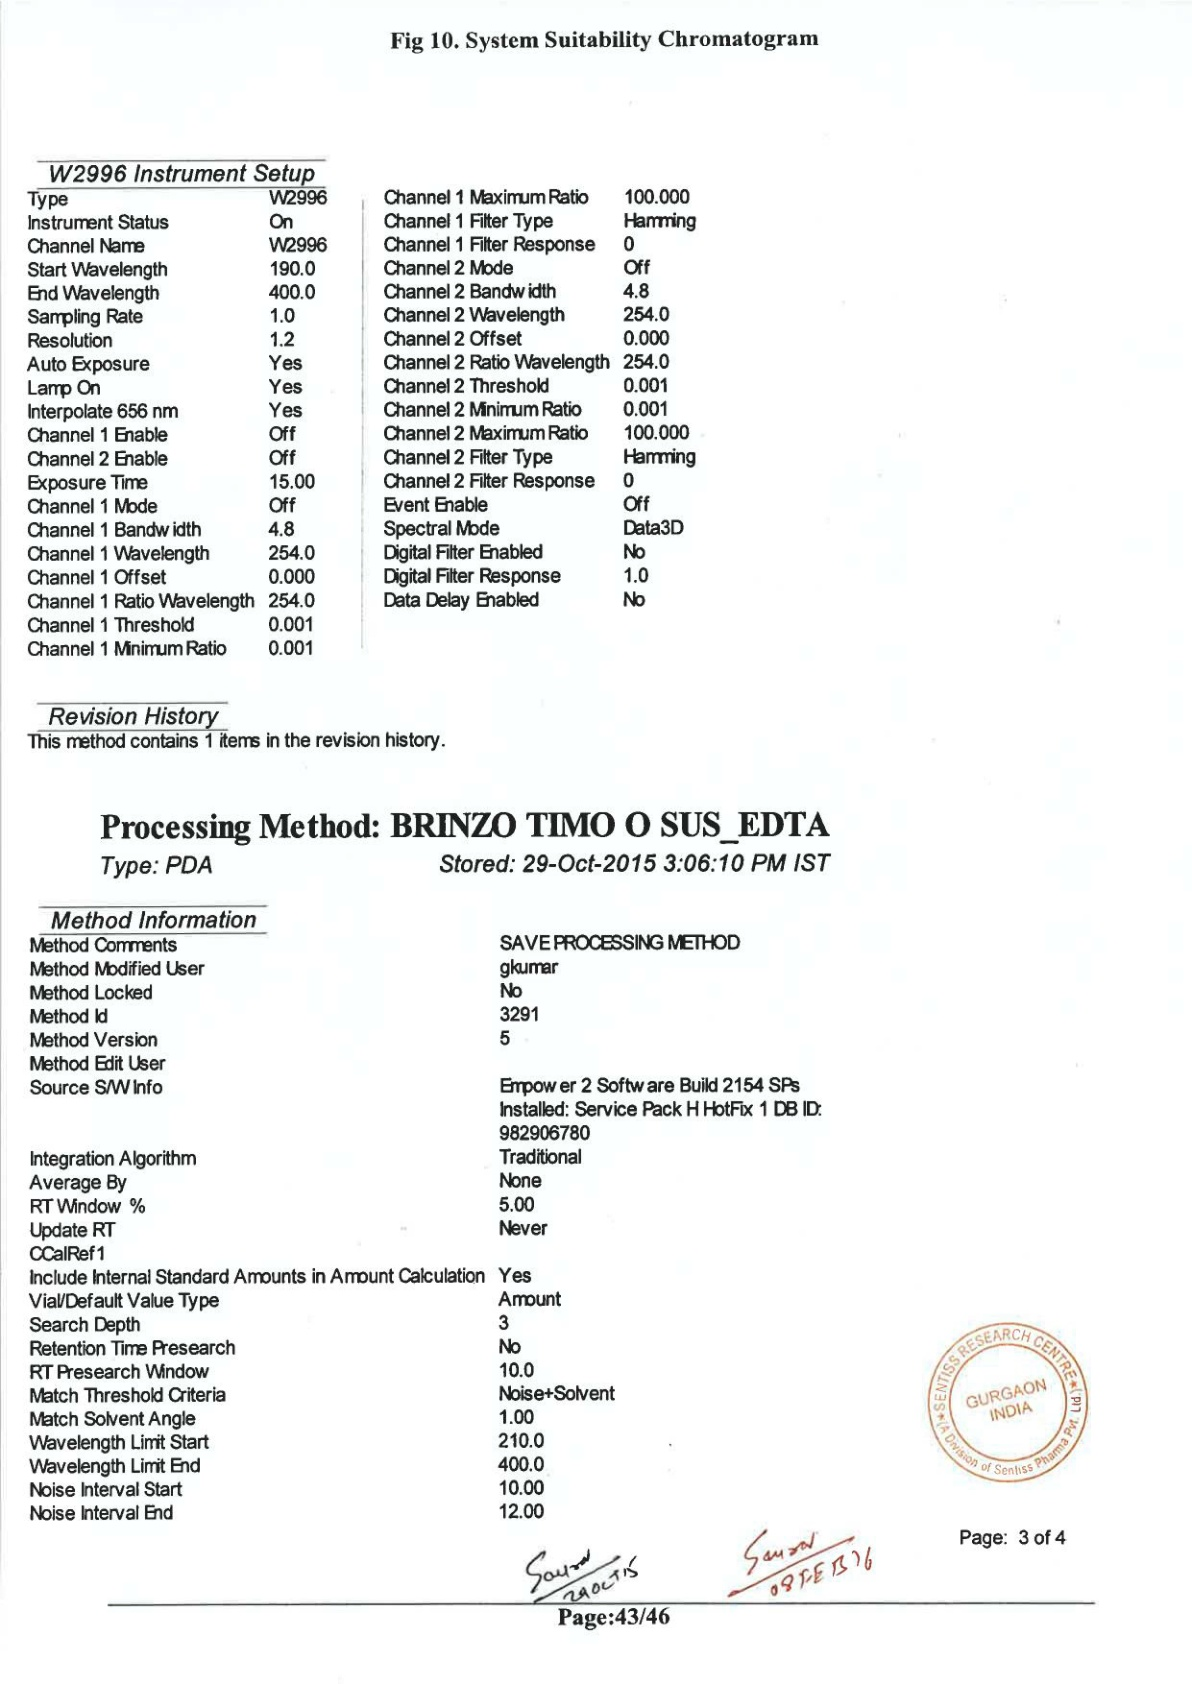nolines: (22, 931, 826, 1525), (22, 187, 691, 660)
